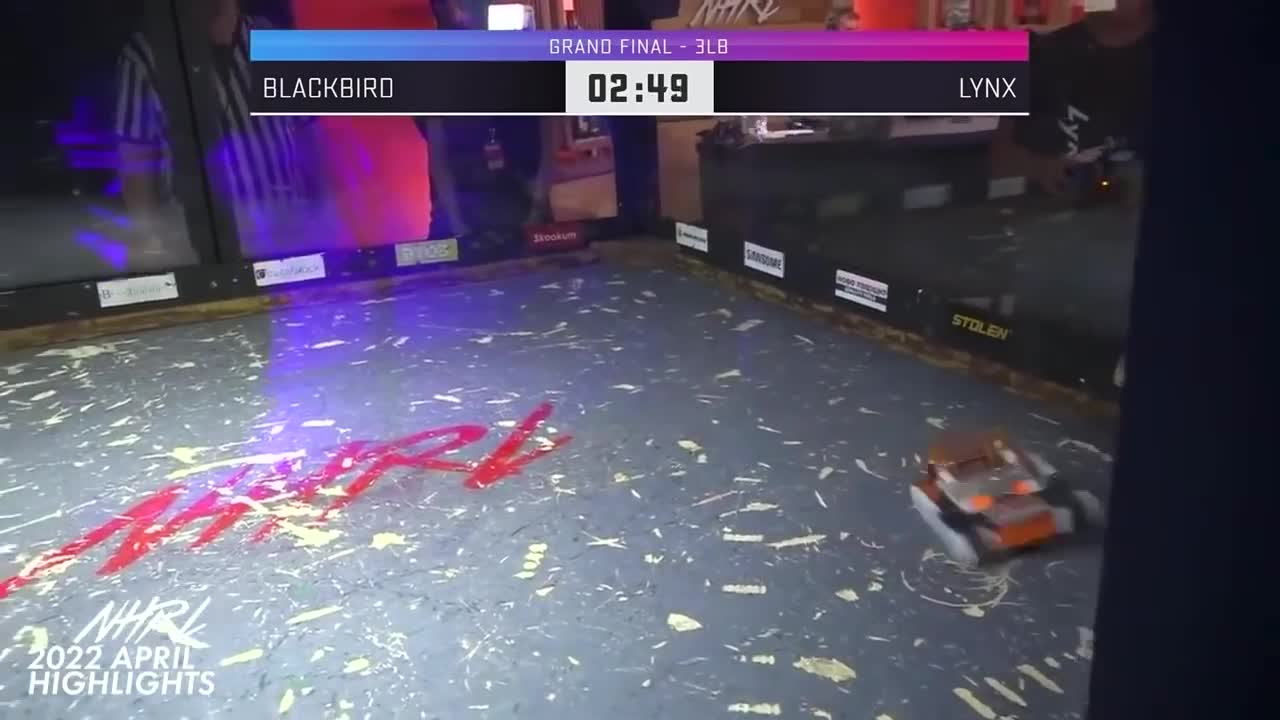combatbot: (901, 433, 1095, 573)
